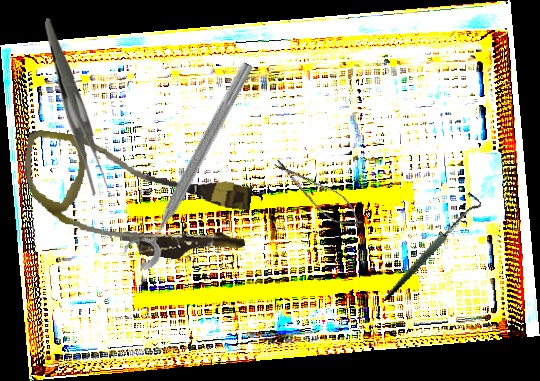Cannula: (14, 128, 257, 269)
Dressing Forceps: (42, 18, 111, 197)
Fixation Ring: (118, 52, 260, 274)
Hook Surgical: (360, 190, 501, 301)
Micro Scissor: (266, 151, 370, 237)
